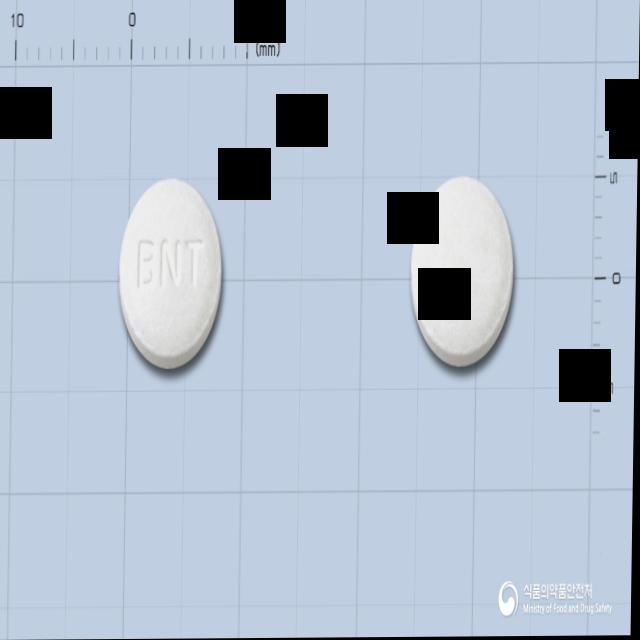Banan: (116, 173, 228, 377), (408, 171, 519, 375)
